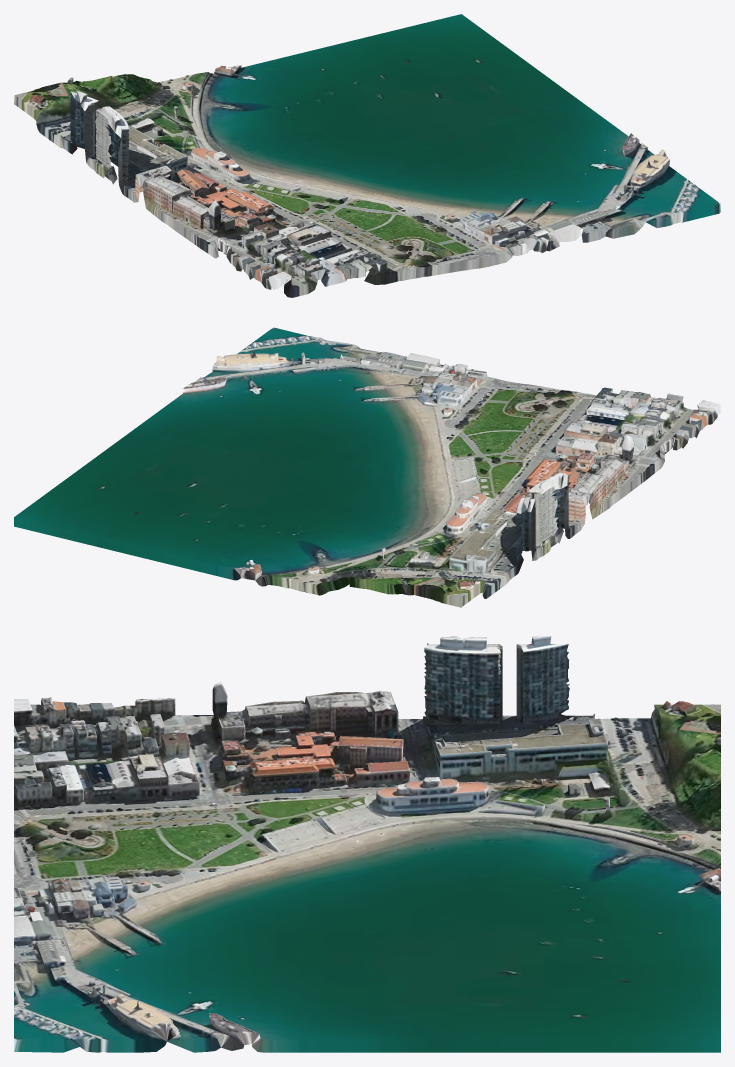
File: z16-10481-25323-h0-yup-uvflip-v3-world.glb
The picture shows the model from 3 angles, top to bottom: view 1: azimuth 30°, elevation 25°; view 2: azimuth 150°, elevation 25°; view 3: azimuth 270°, elevation 25°; orthographic projection. The views are drawn at different scales.
Size of the model in its own units: 483 by 90.24 by 485.
1 material, 1 textured.
